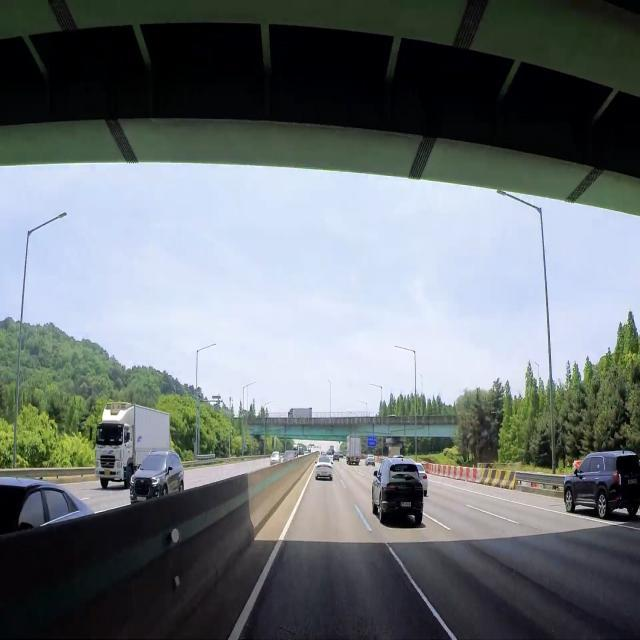car: (397, 499, 415, 510), (103, 467, 112, 478), (136, 494, 147, 503), (320, 470, 329, 478), (419, 476, 423, 482)
